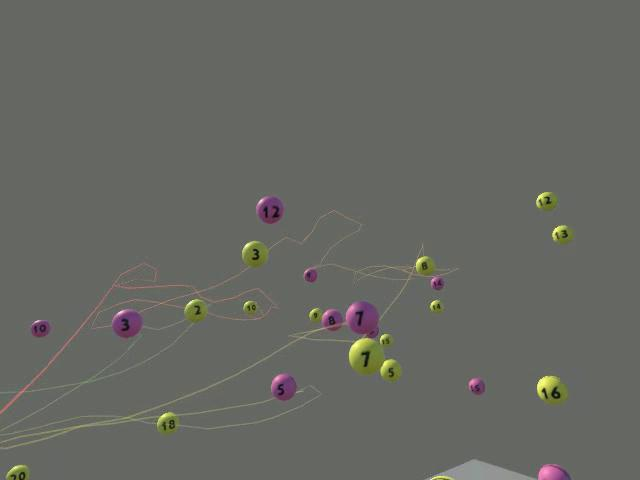ball_02_yellow: (183, 298, 207, 322)
ball_03_pink: (111, 308, 142, 338)
ball_03_yellow: (241, 240, 267, 267)
ball_05_pink: (270, 373, 296, 400)
ball_05_yellow: (379, 358, 401, 381)
ball_07_pink: (345, 300, 378, 334)
ball_07_yellow: (348, 337, 384, 375)
ball_08_pink: (321, 308, 343, 331)
ball_08_yellow: (415, 255, 434, 275)
ball_09_pink: (303, 267, 317, 282)
ball_09_yellow: (308, 307, 322, 322)
ball_10_pink: (30, 319, 50, 337)
ball_10_yellow: (242, 300, 257, 315)
ball_12_pink: (255, 195, 284, 224)
ball_12_yellow: (535, 191, 557, 210)
ball_13_yellow: (551, 224, 574, 244)
ball_14_pink: (430, 276, 444, 290)
ball_14_yellow: (429, 299, 443, 313)
ball_15_pink: (468, 377, 484, 394)
ball_16_yellow: (536, 375, 567, 404)
ball_18_yellow: (156, 411, 178, 434)
ball_unknown: (537, 463, 570, 479), (5, 464, 29, 479), (364, 325, 378, 338), (379, 333, 392, 346), (429, 475, 454, 479)
